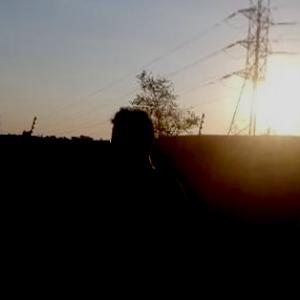follow: (77, 102, 192, 299)
